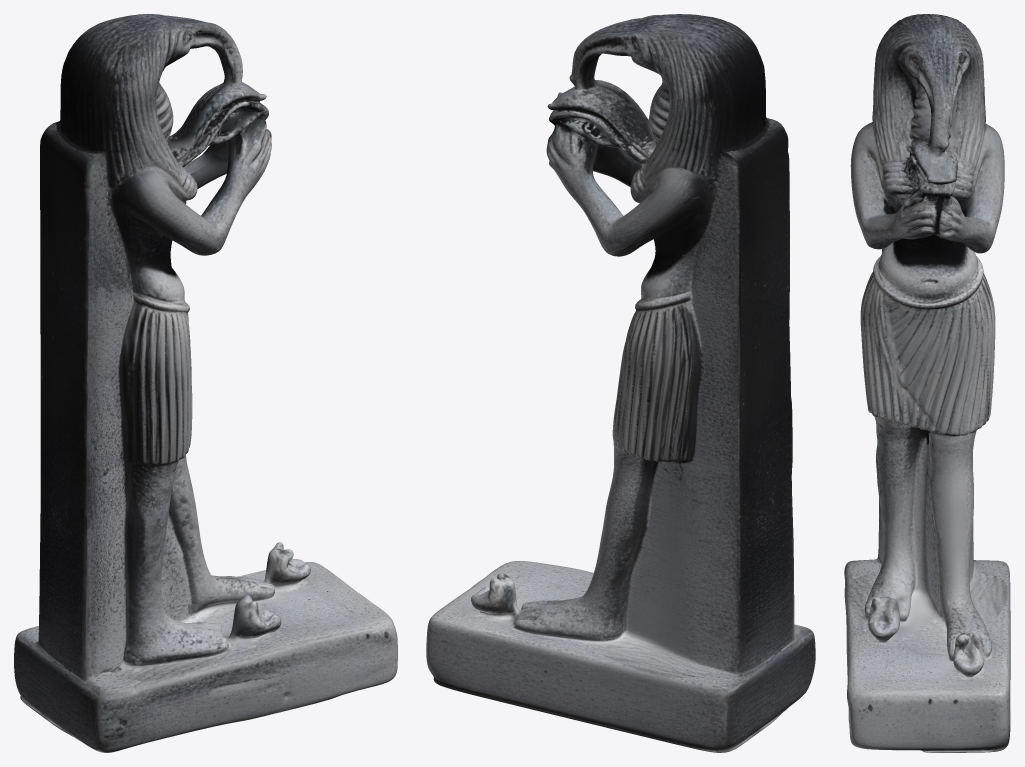
File: thoth.glb
The picture shows the model from 3 angles, left to right: view 1: azimuth 30°, elevation 25°; view 2: azimuth 150°, elevation 25°; view 3: azimuth 270°, elevation 25°; orthographic projection. The views are drawn at different scales.
Visible parts, largest first — view 1: node_0; view 2: node_0; view 3: node_0.
Part boxes in pixels (x1,y1,x2,y2): node_0: (14, 14, 397, 752); node_0: (426, 14, 815, 752); node_0: (844, 14, 1010, 752).
Size of the model in its own units: 0.5043 by 1.08 by 0.2571.
1 material, 1 textured.
